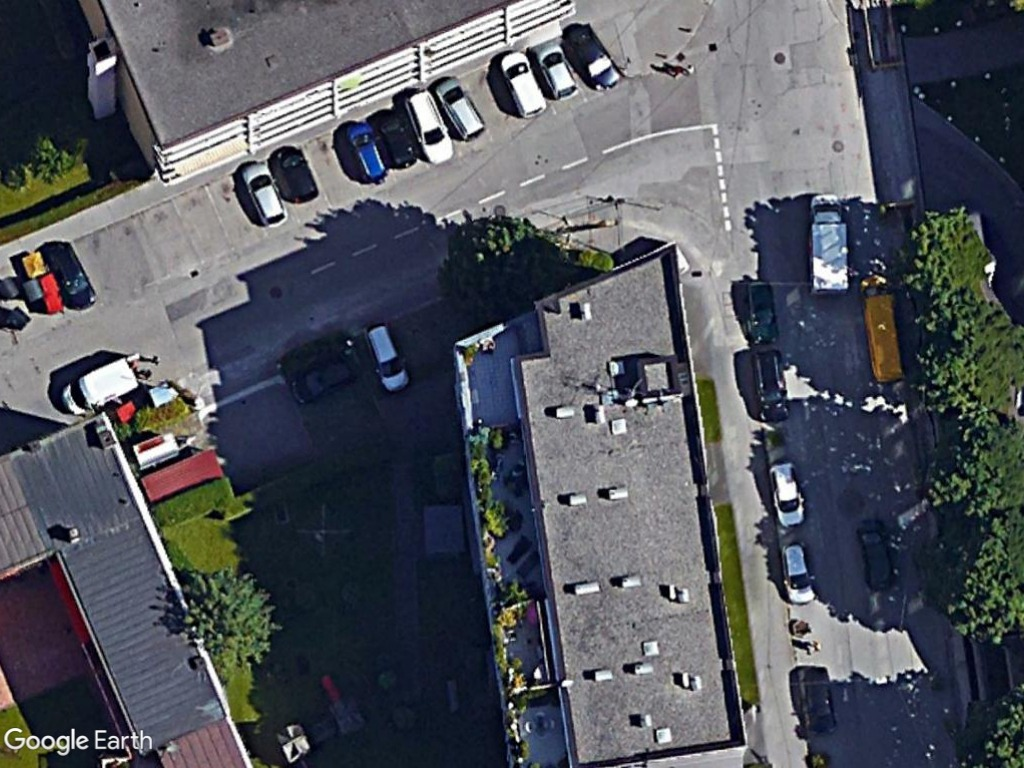car: (398, 85, 461, 169), (232, 156, 291, 233), (359, 320, 416, 398), (430, 73, 491, 144), (496, 46, 549, 124), (523, 37, 583, 104), (342, 117, 393, 188), (762, 459, 810, 533), (774, 534, 820, 610)
truck: (796, 186, 855, 298)
van: (57, 352, 144, 428)
